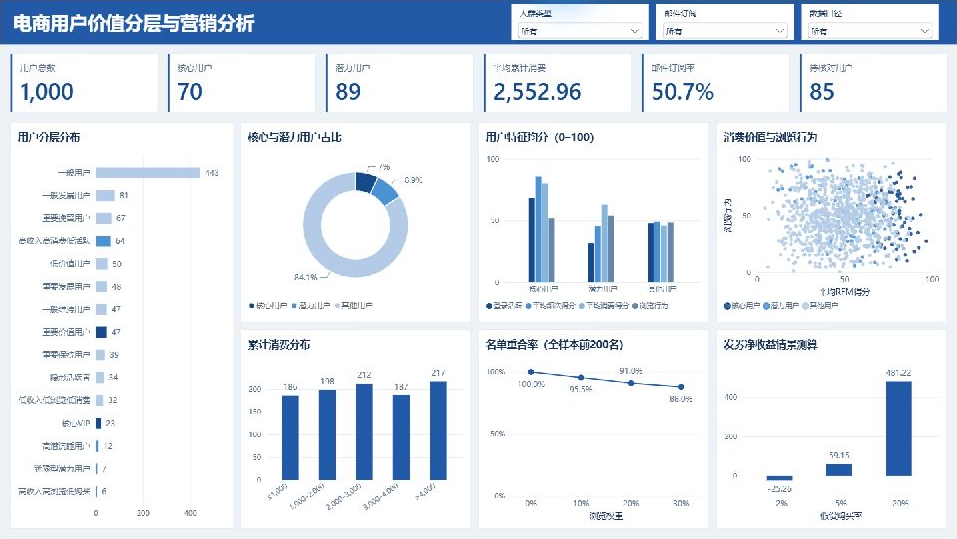

The dashboard page shown, as its layout file describes it:
{"tool":"powerbi","page":{"name":"用户价值与营销分析","canvas":[1600,900],"ordinal":0},"visuals":[{"type":"textbox","box":[0,0,1600,74],"z":10},{"type":"textbox","box":[22,17,770,46],"z":20},{"type":"slicer","fields":{"Values":["用户.人群类型"]},"box":[855,7,230,60],"z":30},{"type":"slicer","fields":{"Values":["用户.邮件订阅"]},"box":[1097,7,230,60],"z":40},{"type":"slicer","fields":{"Values":["用户.数据口径"]},"box":[1339,7,230,60],"z":50},{"type":"cardVisual","fields":{"Data":["用户.用户总数显示"]},"box":[16,88,248,100],"z":60},{"type":"cardVisual","fields":{"Data":["用户.核心用户显示"]},"box":[280,88,248,100],"z":70},{"type":"cardVisual","fields":{"Data":["用户.潜力用户显示"]},"box":[544,88,248,100],"z":80},{"type":"cardVisual","fields":{"Data":["用户.平均累计消费显示"]},"box":[808,88,248,100],"z":90},{"type":"cardVisual","fields":{"Data":["用户.邮件订阅率显示"]},"box":[1072,88,248,100],"z":100},{"type":"cardVisual","fields":{"Data":["用户.待核对用户显示"]},"box":[1336,88,248,100],"z":110},{"type":"barChart","title":"用户分层分布","fields":{"Category":["用户.分层简称"],"Y":["用户.用户数"]},"box":[16,204,374,680],"z":120},{"type":"donutChart","title":"核心与潜力用户占比","fields":{"Category":["用户.人群类型"],"Y":["用户.用户数"]},"box":[402,204,386,334],"z":130},{"type":"clusteredColumnChart","title":"用户特征均分（0–100）","fields":{"Category":["用户.人群类型"],"Y":["用户.登录活跃","用户.平均频次得分","用户.平均消费得分","用户.浏览行为"]},"box":[800,204,386,334],"z":140},{"type":"scatterChart","title":"消费价值与浏览行为","fields":{"Category":["用户.用户ID"],"Series":["用户.人群类型"],"X":["用户.平均RFM得分"],"Y":["用户.浏览行为"]},"box":[1198,204,386,334],"z":150},{"type":"columnChart","title":"累计消费分布","fields":{"Category":["用户.消费区间"],"Y":["用户.用户数"]},"box":[402,550,386,334],"z":160},{"type":"lineChart","title":"名单重合率（全样本前200名）","fields":{"Category":["权重比较.浏览权重"],"Y":["权重比较.名单重合比例"]},"box":[800,550,386,334],"z":170},{"type":"columnChart","title":"发券净收益情景测算","fields":{"Category":["收益情景.假设购买率"],"Y":["用户.预计增量净收益"]},"box":[1198,550,386,334],"z":180}]}

Visuals, with their boxes in screenshot pixels (x1, y1, x2, y2), scaled from the page's 1600x900 canvas onto the 957x539 screenshot:
textbox: [0,0,956,44]
textbox: [13,10,474,38]
slicer - 用户.人群类型: [511,4,649,40]
slicer - 用户.邮件订阅: [656,4,794,40]
slicer - 用户.数据口径: [801,4,938,40]
cardVisual - 用户.用户总数显示: [10,53,158,113]
cardVisual - 用户.核心用户显示: [167,53,316,113]
cardVisual - 用户.潜力用户显示: [325,53,474,113]
cardVisual - 用户.平均累计消费显示: [483,53,632,113]
cardVisual - 用户.邮件订阅率显示: [641,53,790,113]
cardVisual - 用户.待核对用户显示: [799,53,947,113]
"用户分层分布" barChart: [10,122,233,529]
"核心与潜力用户占比" donutChart: [240,122,471,322]
"用户特征均分（0–100）" clusteredColumnChart: [478,122,709,322]
"消费价值与浏览行为" scatterChart: [717,122,947,322]
"累计消费分布" columnChart: [240,329,471,529]
"名单重合率（全样本前200名）" lineChart: [478,329,709,529]
"发券净收益情景测算" columnChart: [717,329,947,529]
